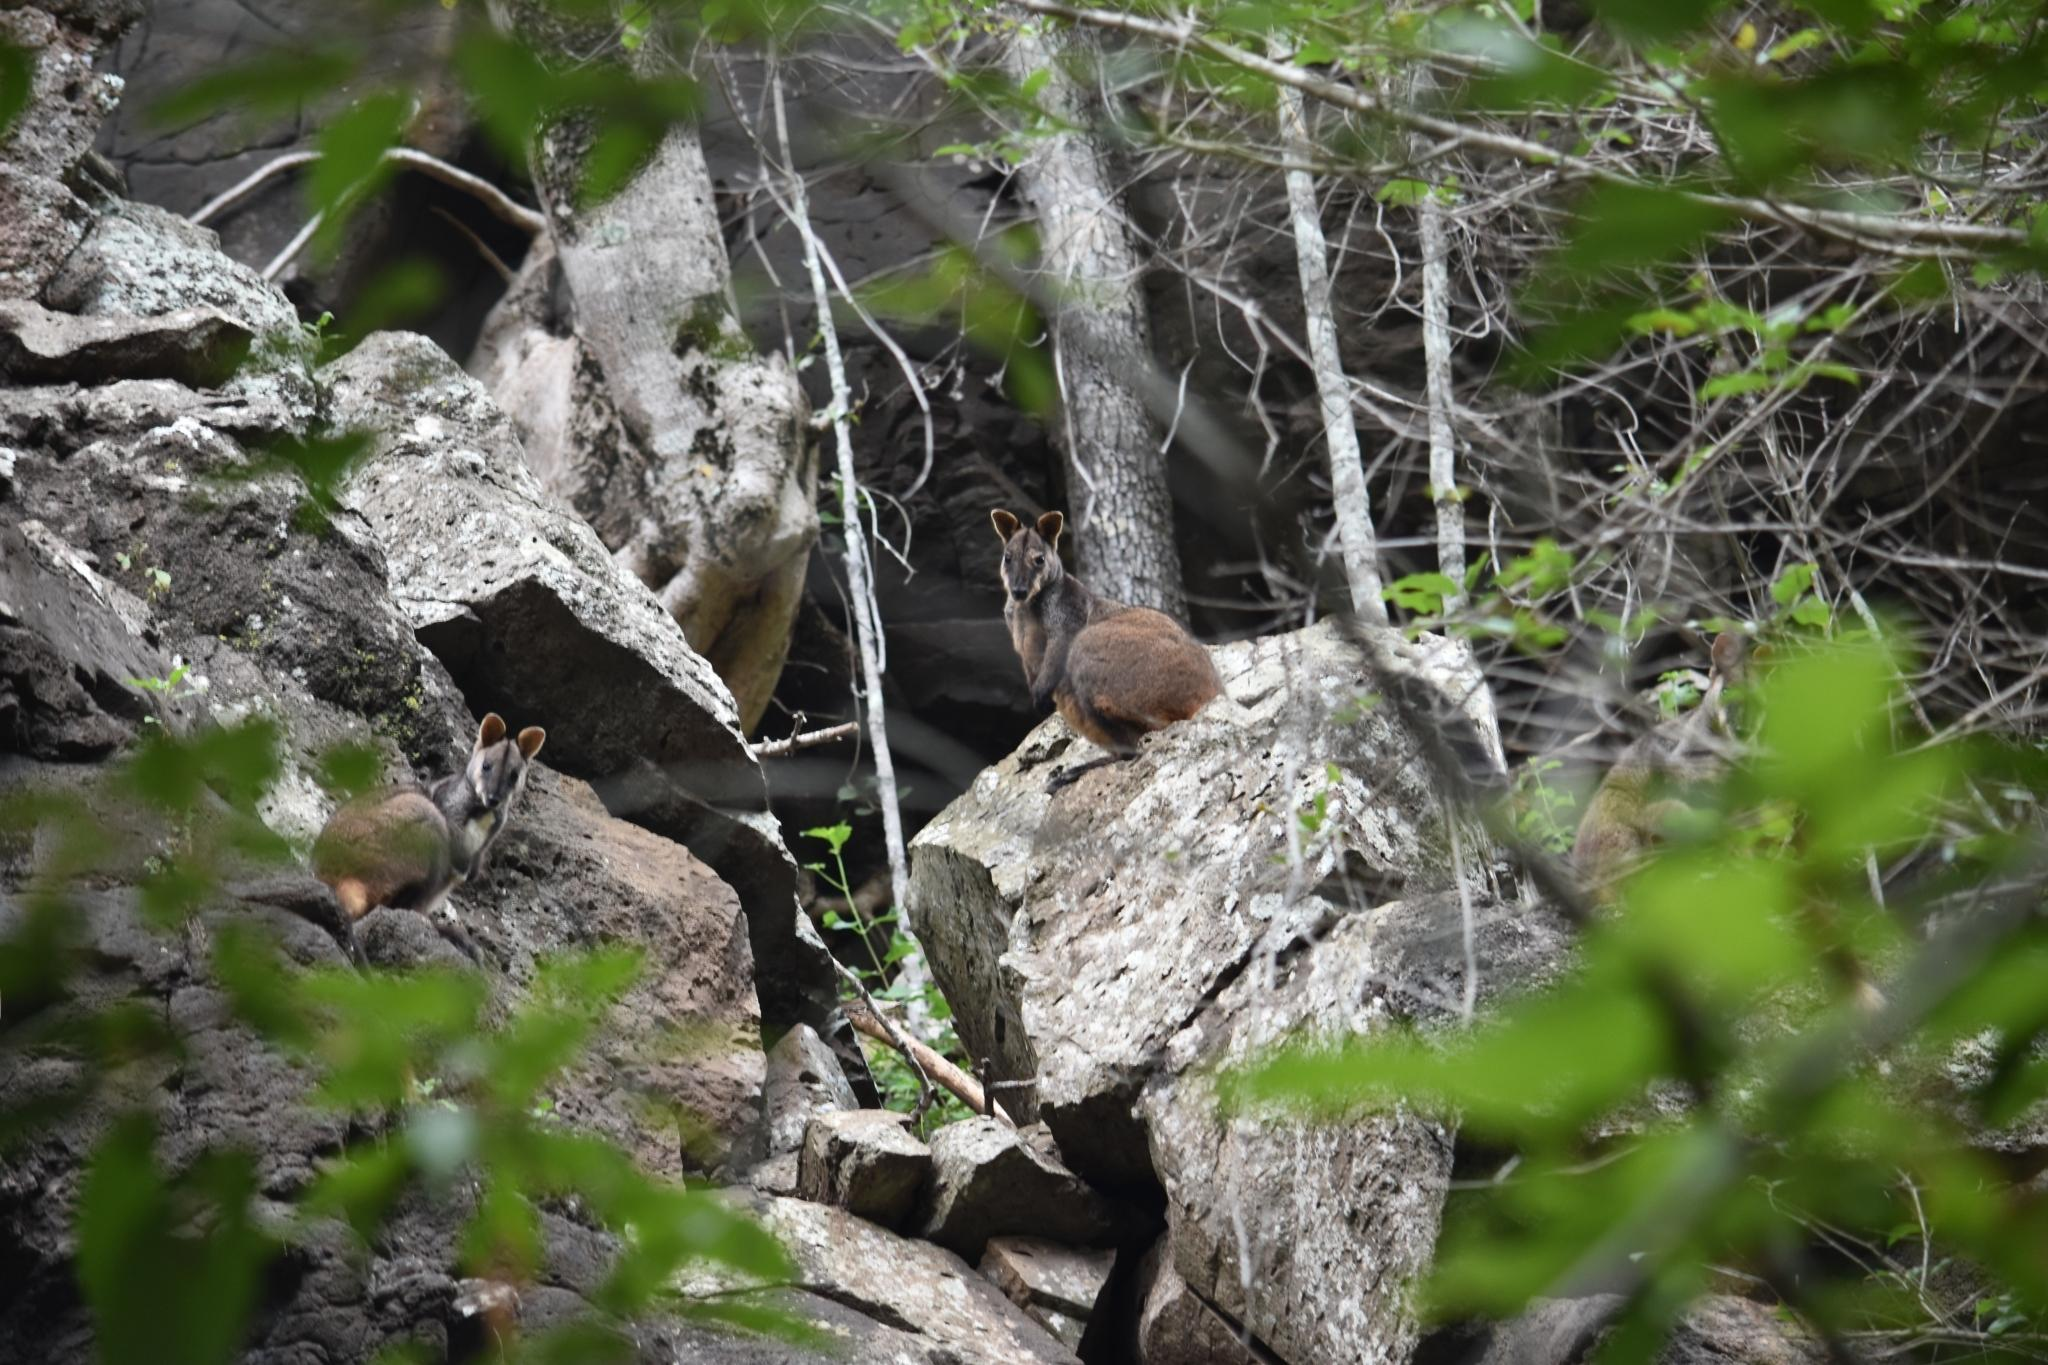Brush-tailed rock-wallaby: (981, 504, 1230, 804), (298, 711, 556, 945)
